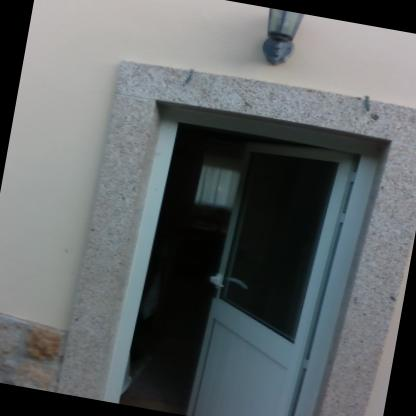semi: (92, 79, 392, 415)
